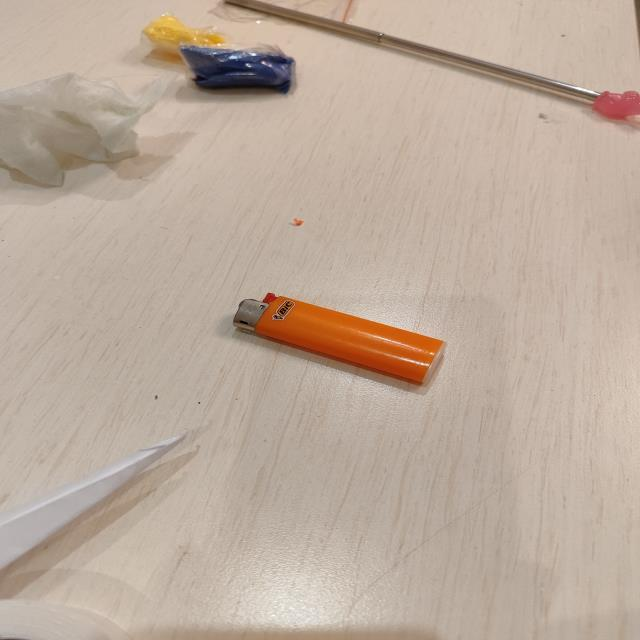lighter: (233, 293, 444, 385)
